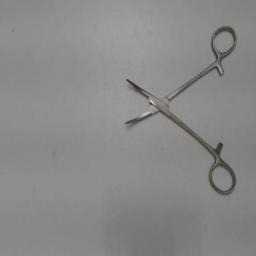Crile Artery Forceps: (118, 22, 240, 198)
